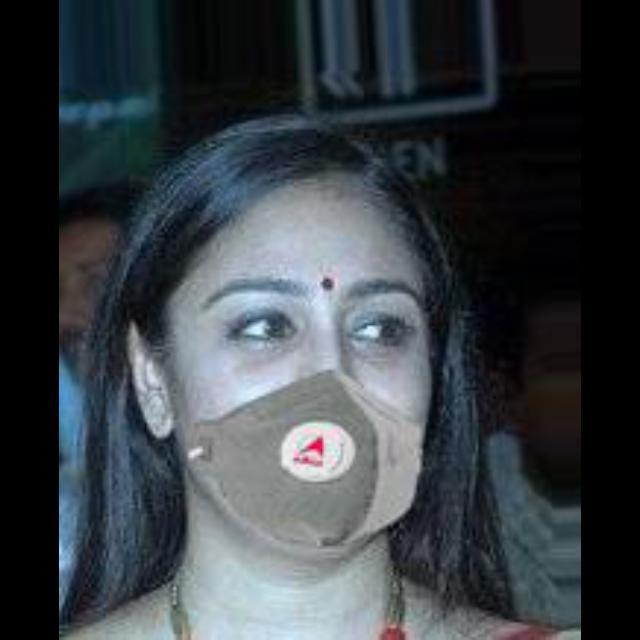suspicion: (120, 129, 480, 581)
